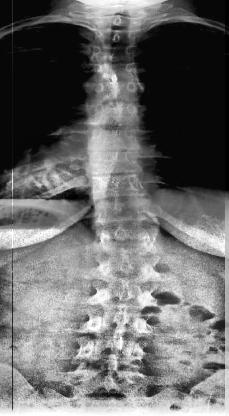Vertebrae: (90, 282, 156, 312), (94, 253, 155, 281), (79, 340, 149, 364), (89, 125, 145, 153), (92, 81, 144, 111), (95, 226, 157, 251), (86, 314, 152, 336), (95, 199, 156, 222), (90, 177, 152, 199), (89, 152, 148, 174), (90, 61, 142, 85), (87, 106, 143, 128), (84, 42, 138, 63), (88, 27, 142, 44), (90, 12, 142, 26)
